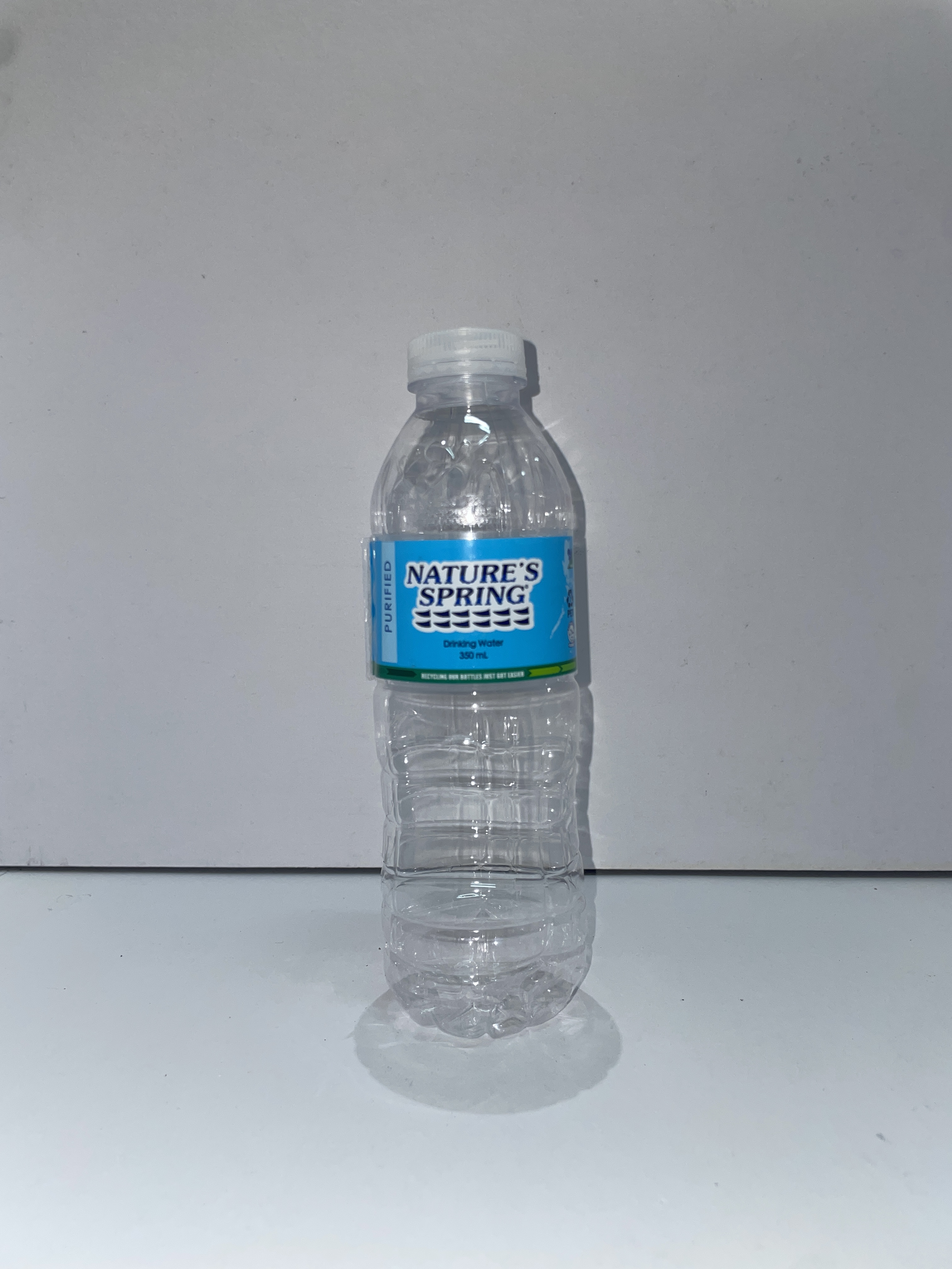natures spring 500ml: (368, 330, 593, 1038)
